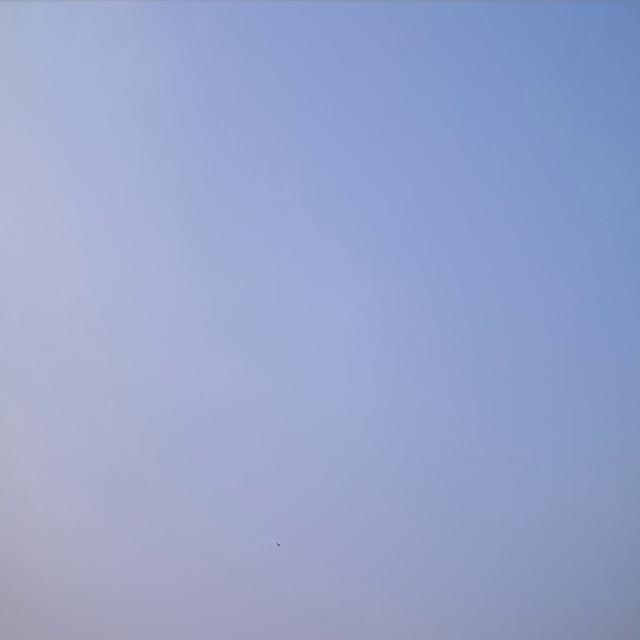UAV: (276, 542, 282, 547)
